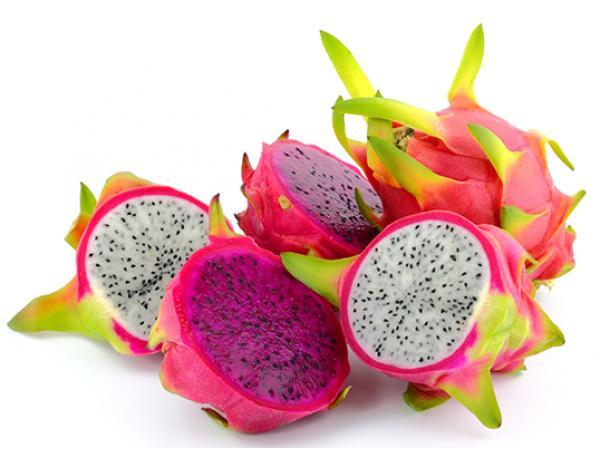dragon-fruit: (162, 236, 349, 425), (369, 106, 566, 280), (338, 210, 526, 385), (75, 185, 235, 353), (246, 138, 382, 260)
